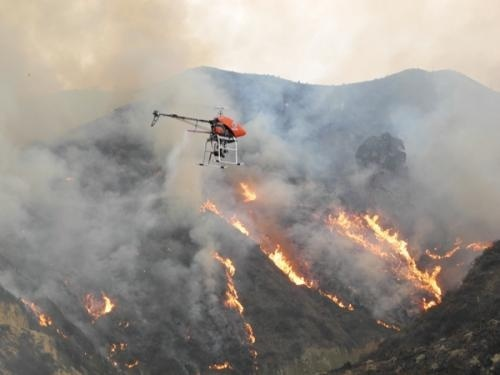fire: (327, 205, 445, 310), (265, 243, 352, 312), (216, 251, 254, 357), (200, 185, 257, 234), (424, 235, 494, 259), (82, 289, 118, 319), (107, 339, 136, 368)
